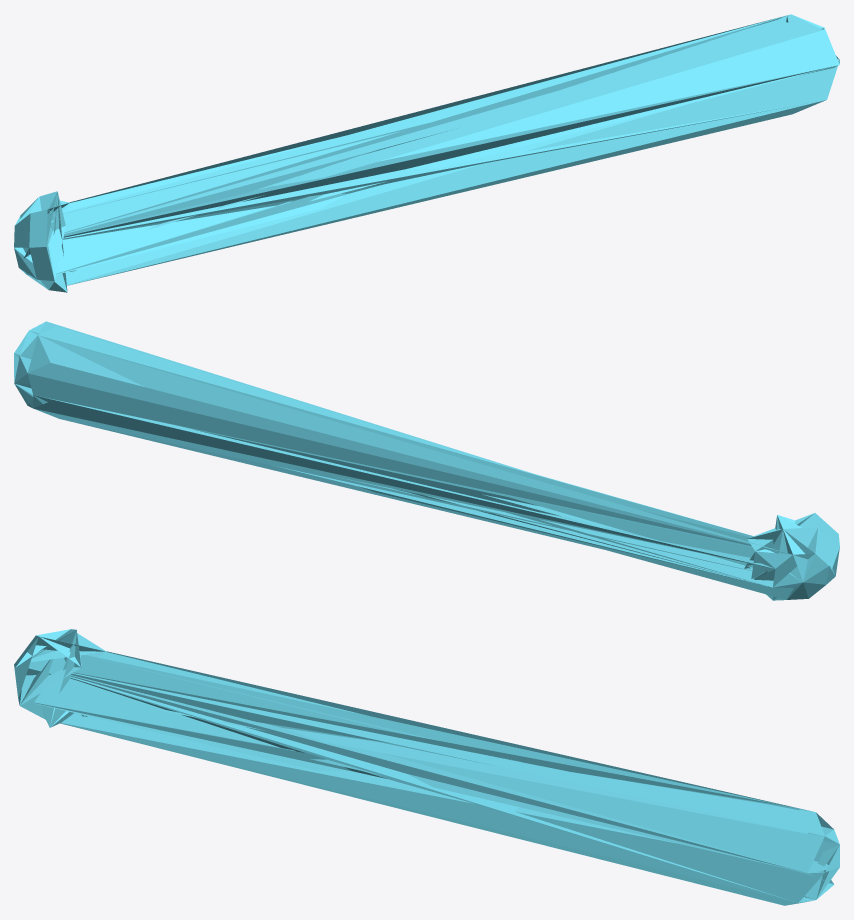
Rendered from S.S._Dolphin_outer_lights_2.obj.
3 renders of one model, top to bottom at view 1: azimuth 30°, elevation 25°; view 2: azimuth 150°, elevation 25°; view 3: azimuth 330°, elevation 25°, orthographic.
Parts seen in each view (by area): view 1: S.S._Dolphin_outer_lights_2; view 2: S.S._Dolphin_outer_lights_2; view 3: S.S._Dolphin_outer_lights_2.
Boxes of the visible parts, bbox=[...] form: S.S._Dolphin_outer_lights_2: bbox=[14, 14, 839, 292]; S.S._Dolphin_outer_lights_2: bbox=[14, 321, 839, 600]; S.S._Dolphin_outer_lights_2: bbox=[14, 629, 839, 905].
Bounding box in the file's own units: 4.58 × 0.493 × 0.4372.
